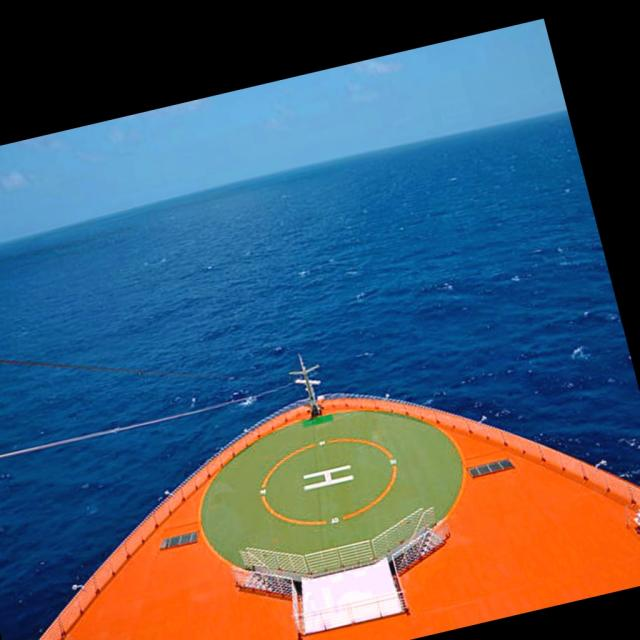helipad: (253, 434, 400, 528)
